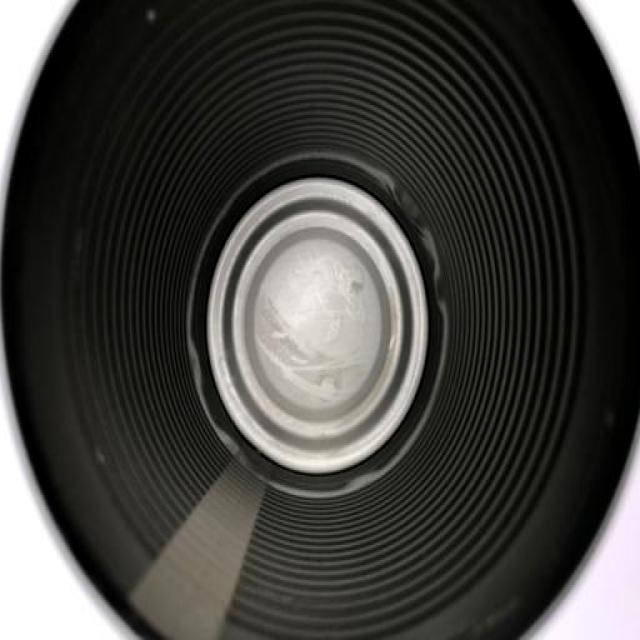Metal: (0, 0, 640, 640)
